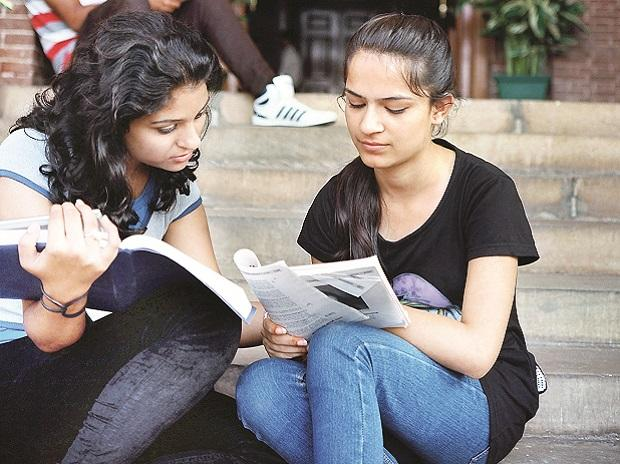Person: (235, 10, 546, 464), (1, 8, 243, 464)
